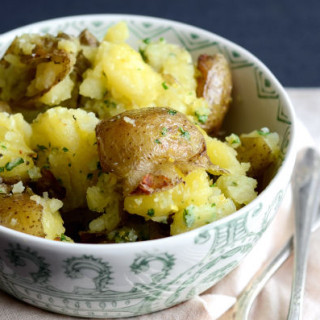boiled potatoes: (22, 62, 233, 190)
